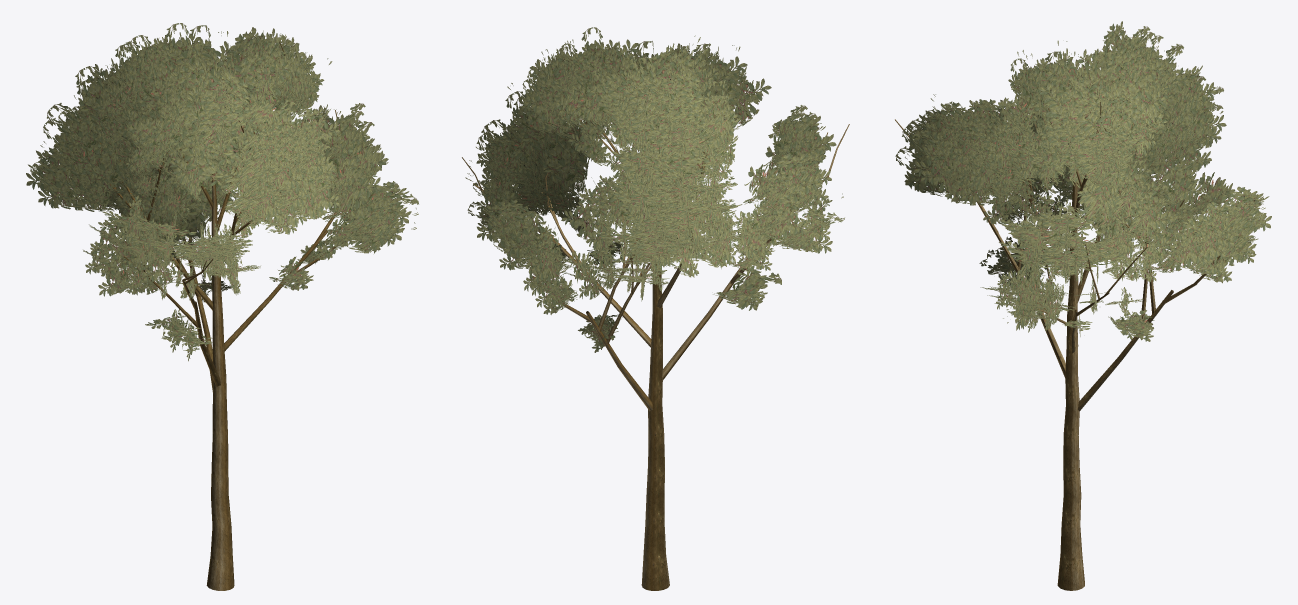
File: SM_Alder_02.gltf
The picture shows the model from 3 angles, left to right: view 1: azimuth 30°, elevation 25°; view 2: azimuth 150°, elevation 25°; view 3: azimuth 270°, elevation 25°; orthographic projection.
Visible parts, largest first — view 1: SM_Alder_02; view 2: SM_Alder_02; view 3: SM_Alder_02.
Boxes of the visible parts, <box> form: SM_Alder_02: <box>26,23,418,590</box>; SM_Alder_02: <box>462,27,849,590</box>; SM_Alder_02: <box>895,21,1271,590</box>.
Size of the model in its own units: 9.39 by 14.35 by 9.55.
Materials: 2 (2 with a texture image).
